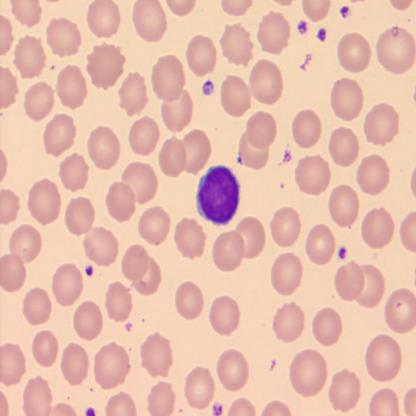Lymphocyte: (195, 164, 241, 227)
